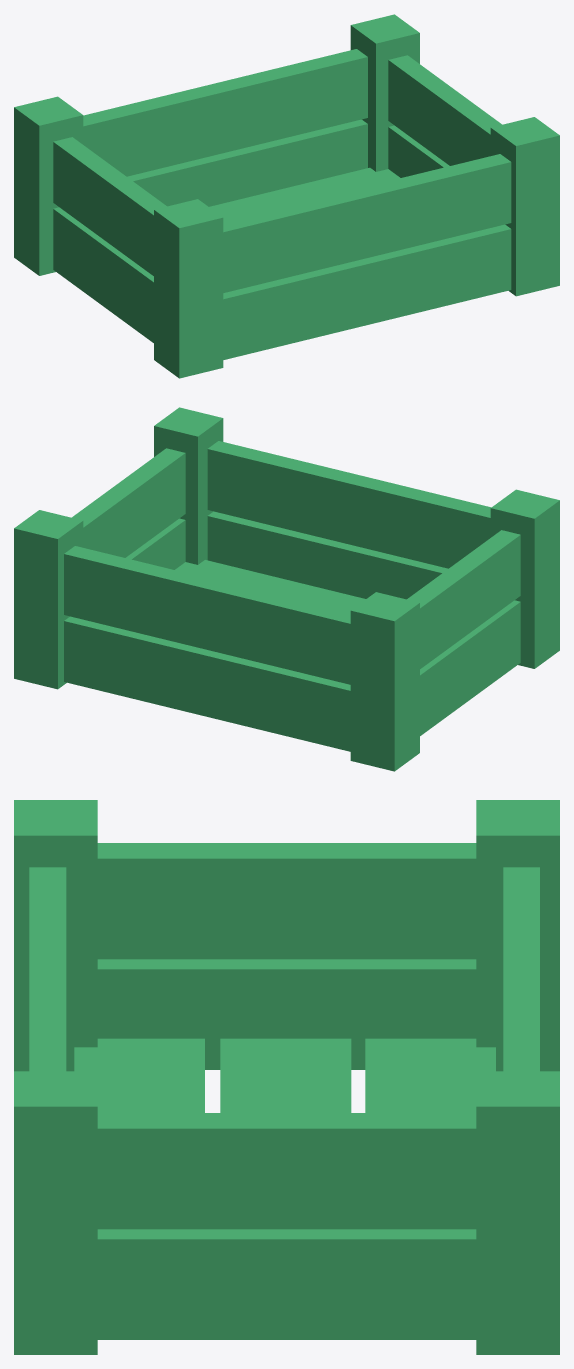
File: Crat.fbx
3 views of the same model, one above another, from view 1: azimuth 30°, elevation 25°; view 2: azimuth 150°, elevation 25°; view 3: azimuth 270°, elevation 25° (orthographic). The views are drawn at different scales.
Parts seen in each view (by area): view 1: pSphere28; view 2: pSphere28; view 3: pSphere28.
Part boxes in pixels (box(x1,y1,x2,y2)): pSphere28: box(14, 14, 559, 378); pSphere28: box(14, 407, 559, 771); pSphere28: box(14, 800, 559, 1354).
Size of the model in its own units: 0.5892 by 0.2223 by 0.4434.
